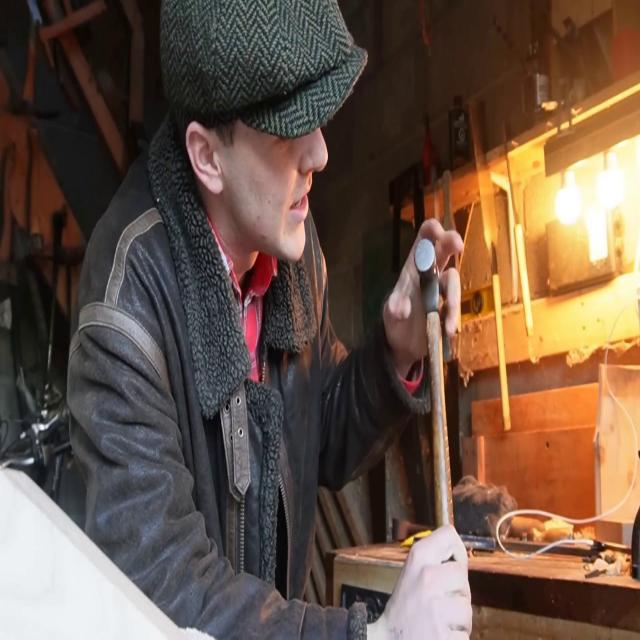hammer: (414, 239, 454, 525)
